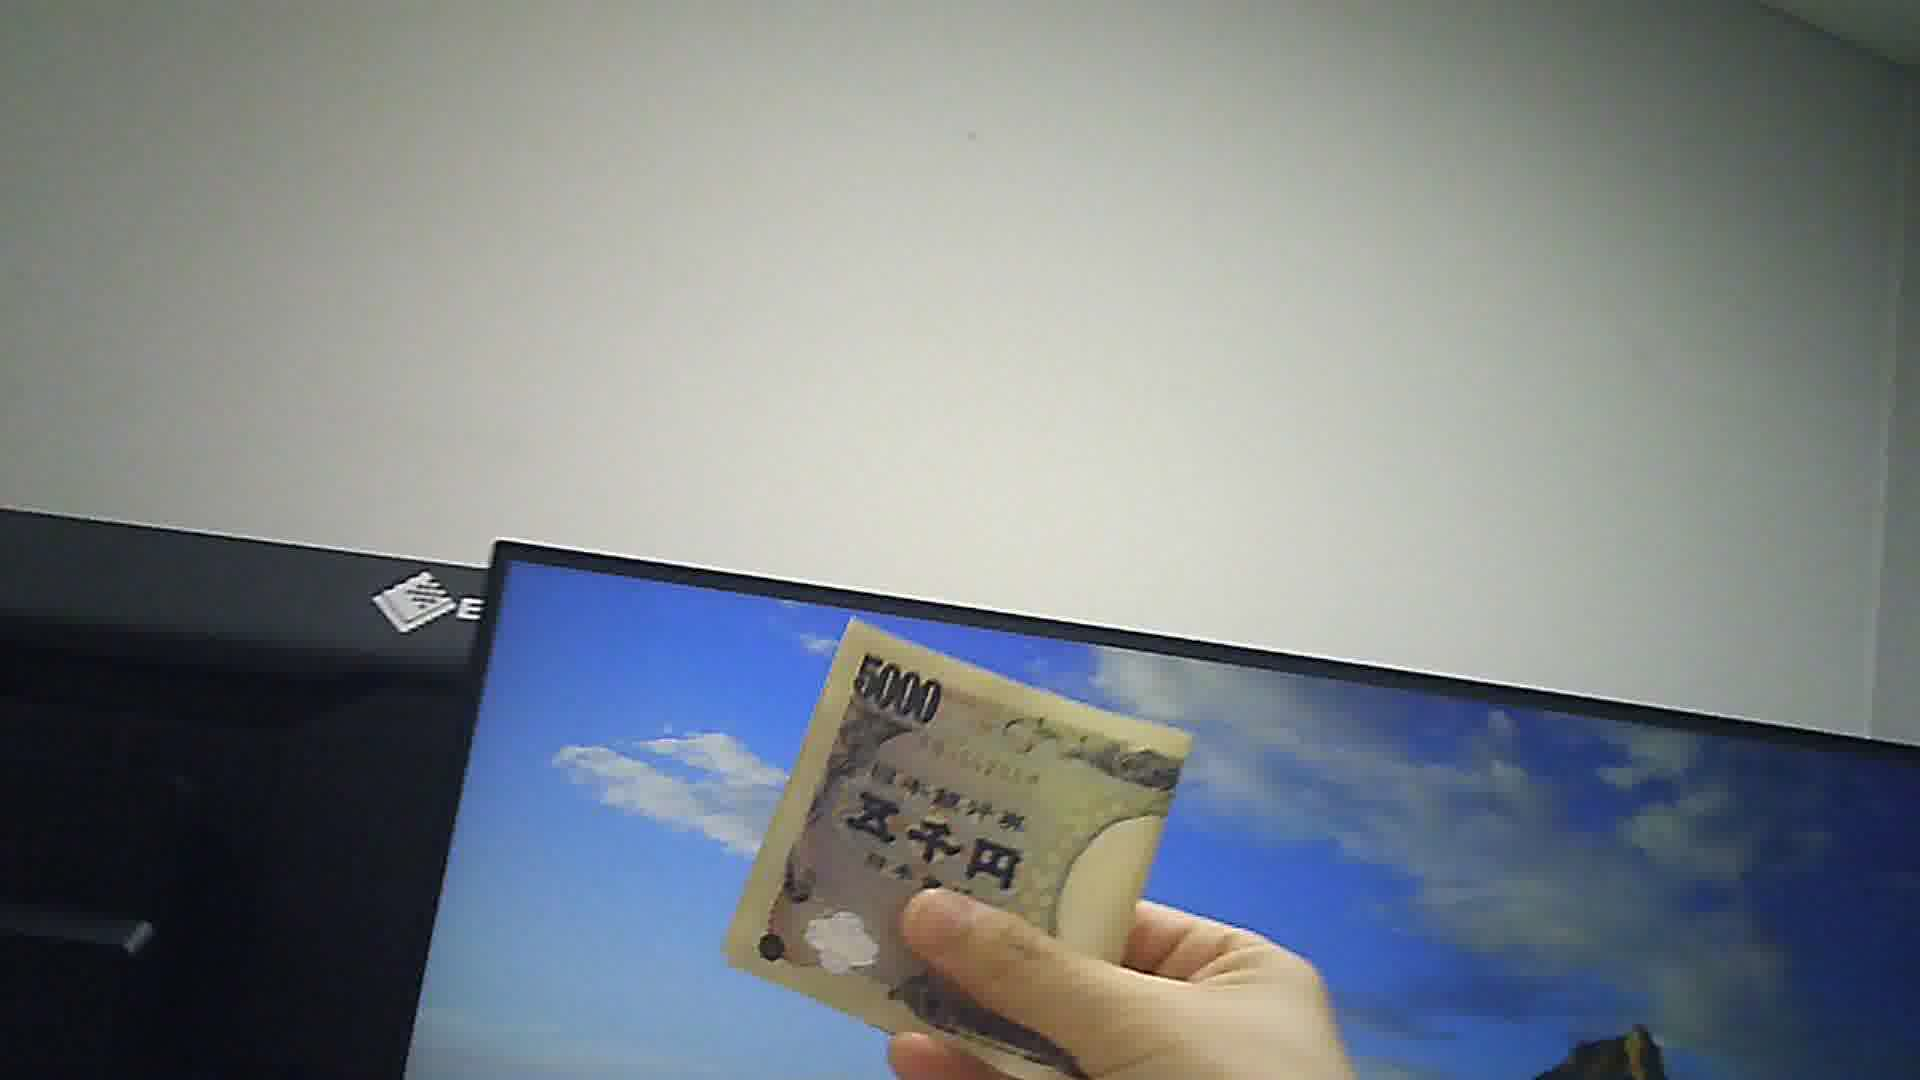5,000 Yen: (723, 615, 1180, 1079)
